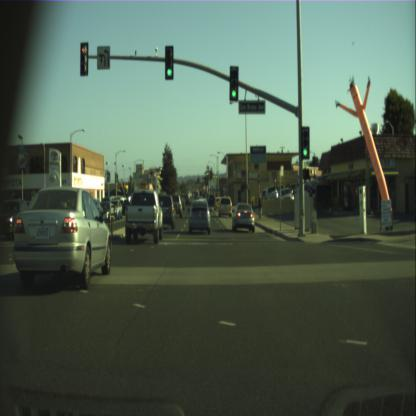Green: (228, 65, 238, 103), (164, 45, 174, 81), (300, 126, 309, 158)
RedLeft: (80, 41, 88, 74)
